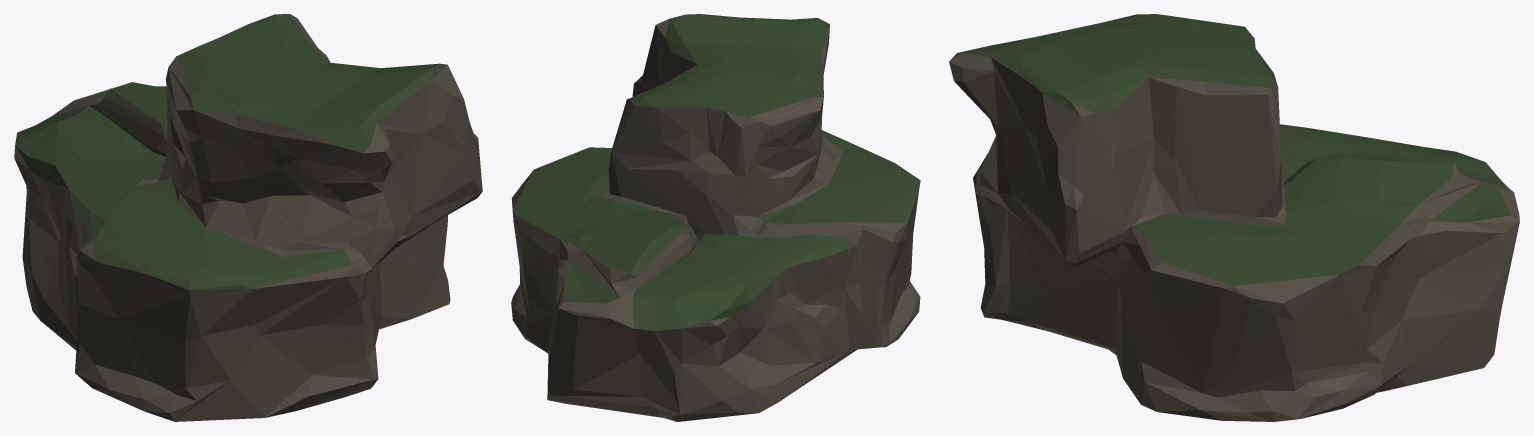
File: Cliff_2.FBX
3 renders of one model, left to right at view 1: azimuth 30°, elevation 25°; view 2: azimuth 150°, elevation 25°; view 3: azimuth 270°, elevation 25°, orthographic. The views are drawn at different scales.
Visible parts, largest first — view 1: Group57065; view 2: Group57065; view 3: Group57065.
Boxes of the visible parts, <box> form: Group57065: <box>14,14,482,421</box>; Group57065: <box>511,14,920,421</box>; Group57065: <box>949,14,1519,421</box>.
Size of the model in its own units: 882 by 630 by 1072.
